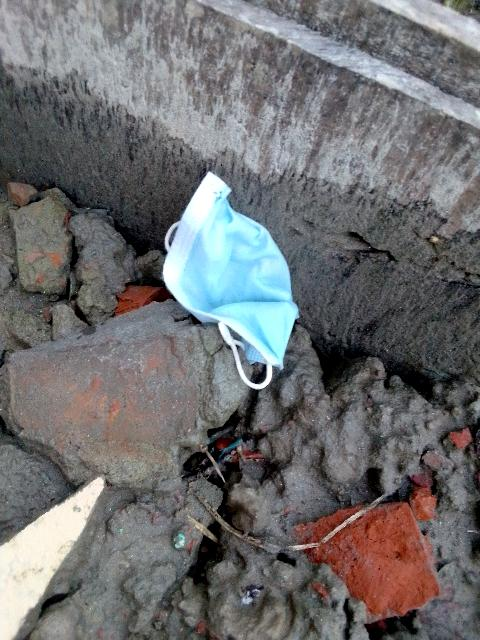mask: (168, 148, 327, 388)
